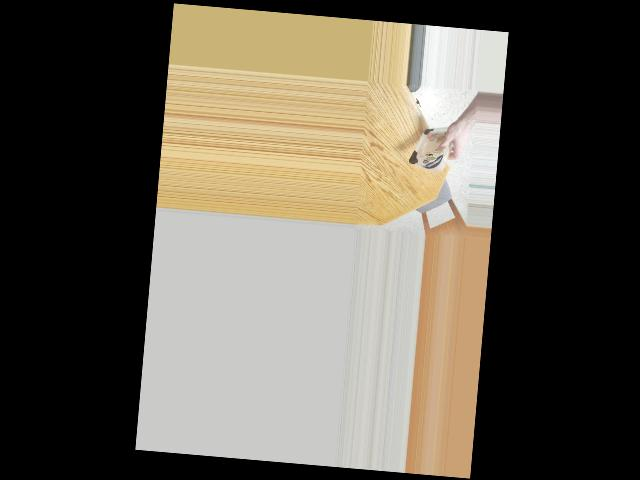cheese: (411, 119, 451, 170)
